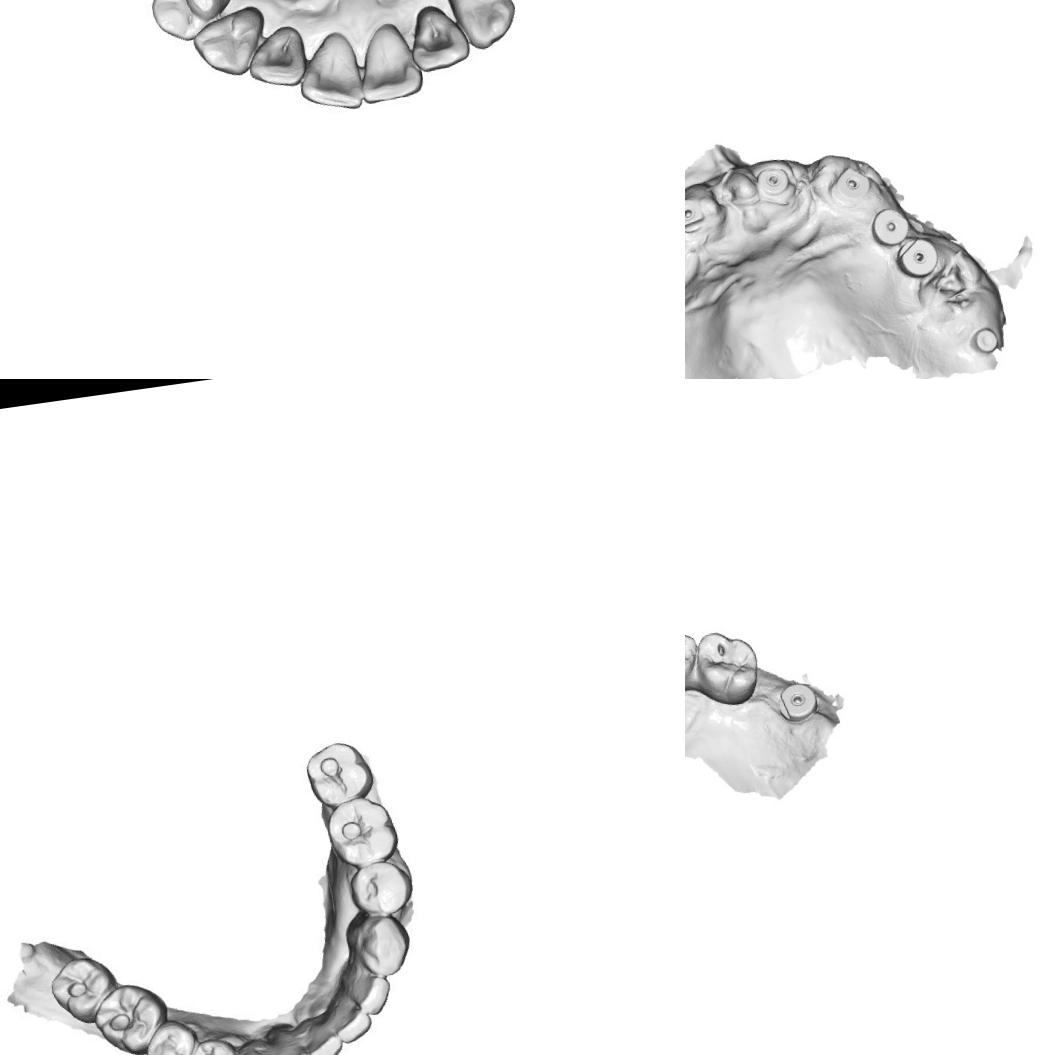canine: (186, 2, 272, 84), (342, 908, 418, 980), (445, 0, 520, 54), (233, 1037, 280, 1055)
implant: (894, 234, 942, 282), (774, 679, 822, 727), (868, 204, 913, 248), (832, 163, 873, 205), (754, 165, 792, 200), (970, 324, 1000, 355), (685, 196, 706, 235)
incisor: (350, 15, 428, 107), (291, 26, 365, 118), (403, 0, 473, 76), (244, 28, 307, 92), (351, 966, 399, 1014), (304, 1010, 347, 1055), (331, 996, 373, 1041), (275, 1030, 317, 1055)
molar: (92, 977, 173, 1055), (690, 626, 763, 710), (324, 793, 402, 870), (48, 949, 122, 1026), (296, 738, 374, 810)
premolar: (346, 858, 414, 920), (146, 0, 233, 45), (141, 1018, 202, 1055), (685, 626, 703, 694), (186, 1033, 241, 1055)
